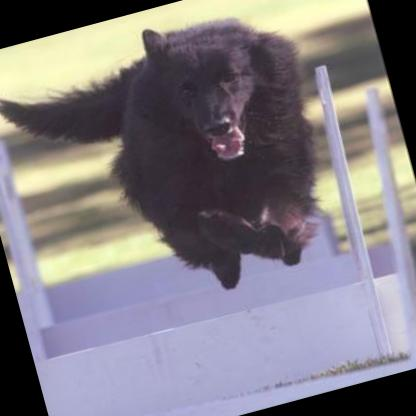groenendael: (0, 0, 349, 335)
